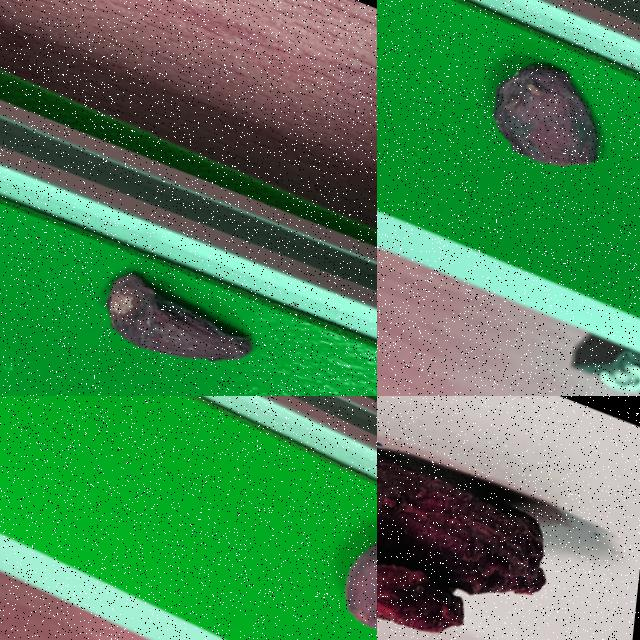Agglomerated_cocoabeans: (377, 396, 617, 639)
Fine_cocoabeans: (182, 400, 376, 639)
Flat_cocoabeans: (380, 0, 639, 230), (40, 236, 293, 395)
